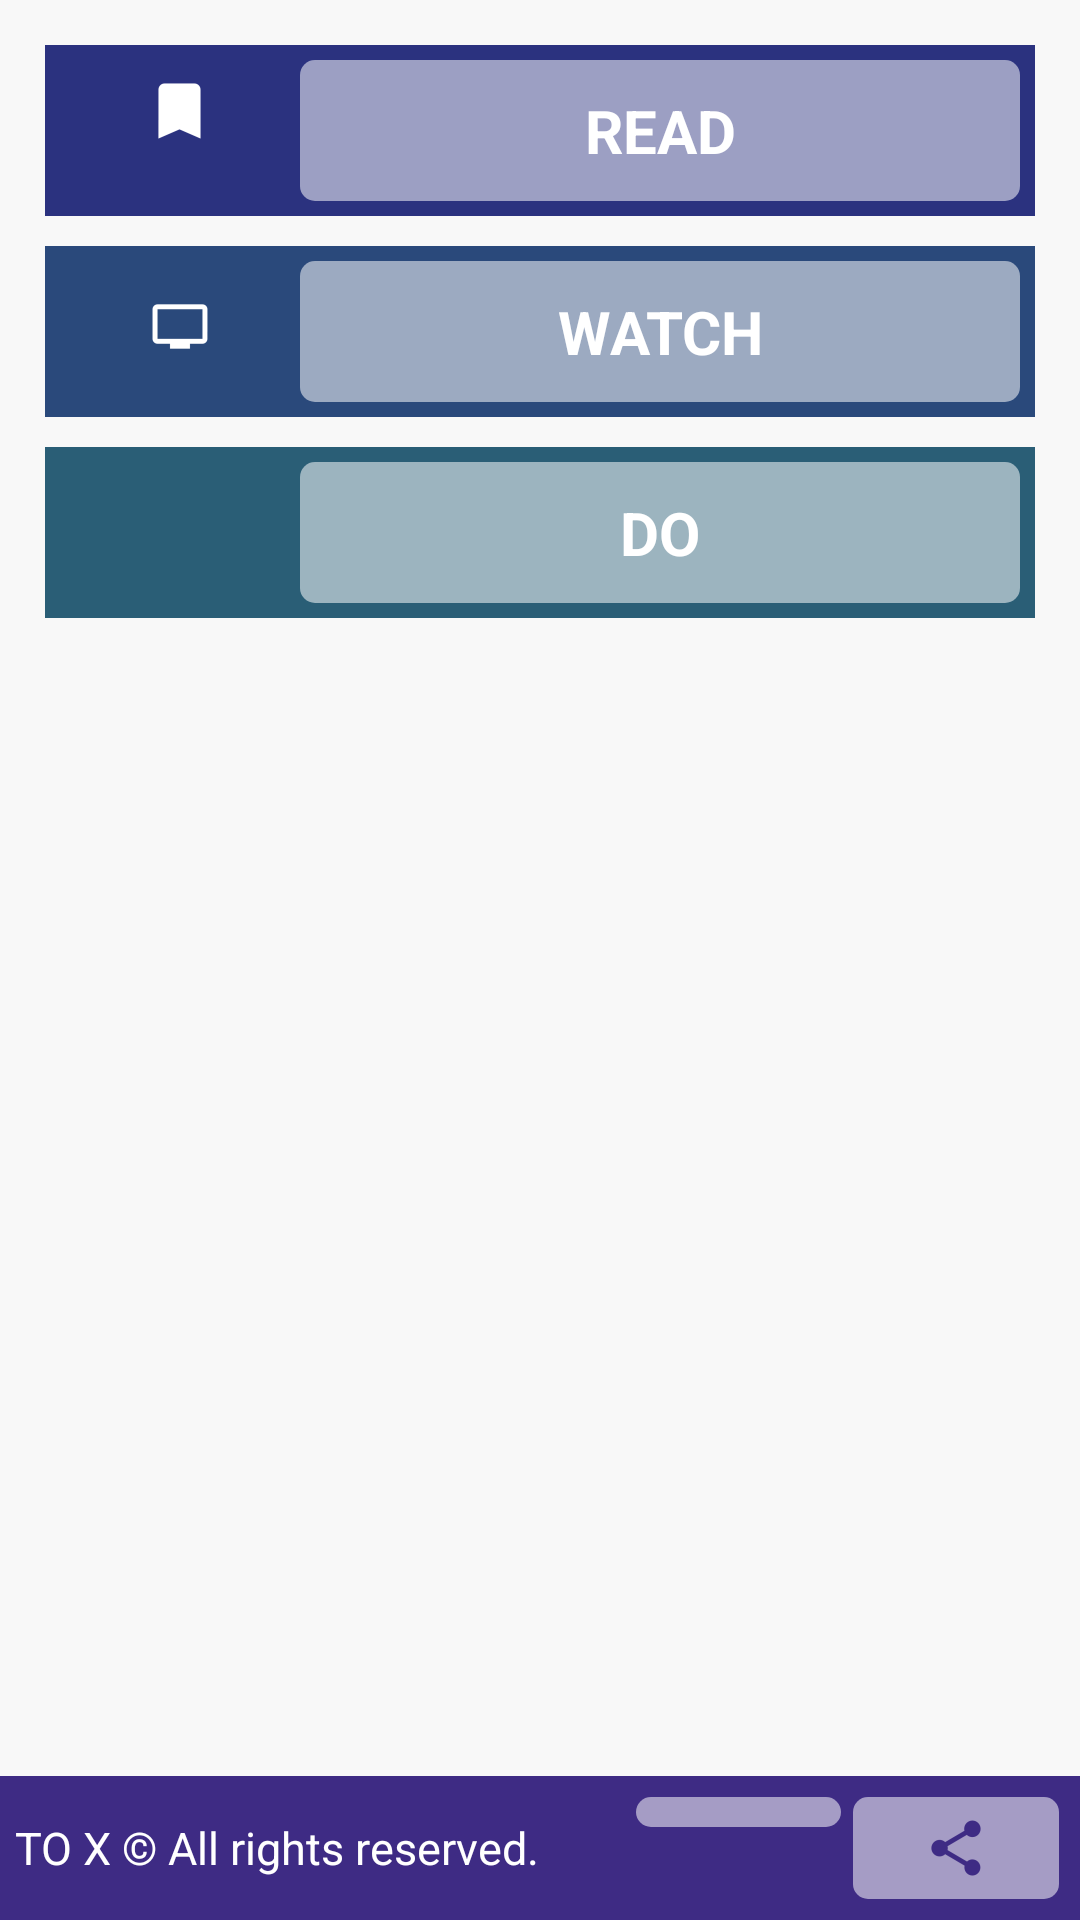

Icon click points for this 1080 × 1920 phone screenshot, format (x=x, y=y):
Share: (x=956, y=1848)
